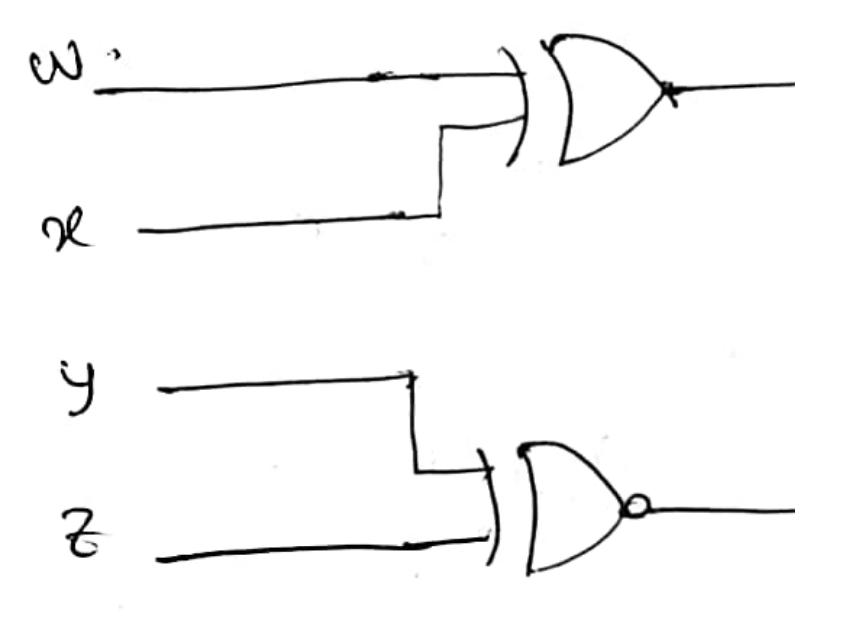xnor: (462, 432, 666, 584)
xor: (491, 25, 690, 177)
